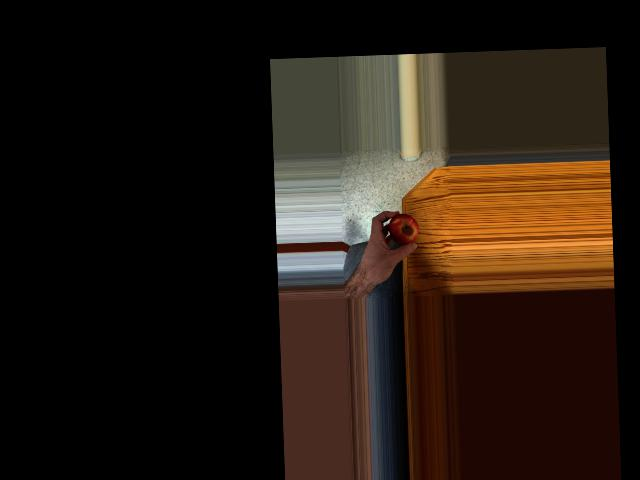apple: (382, 210, 421, 253)
